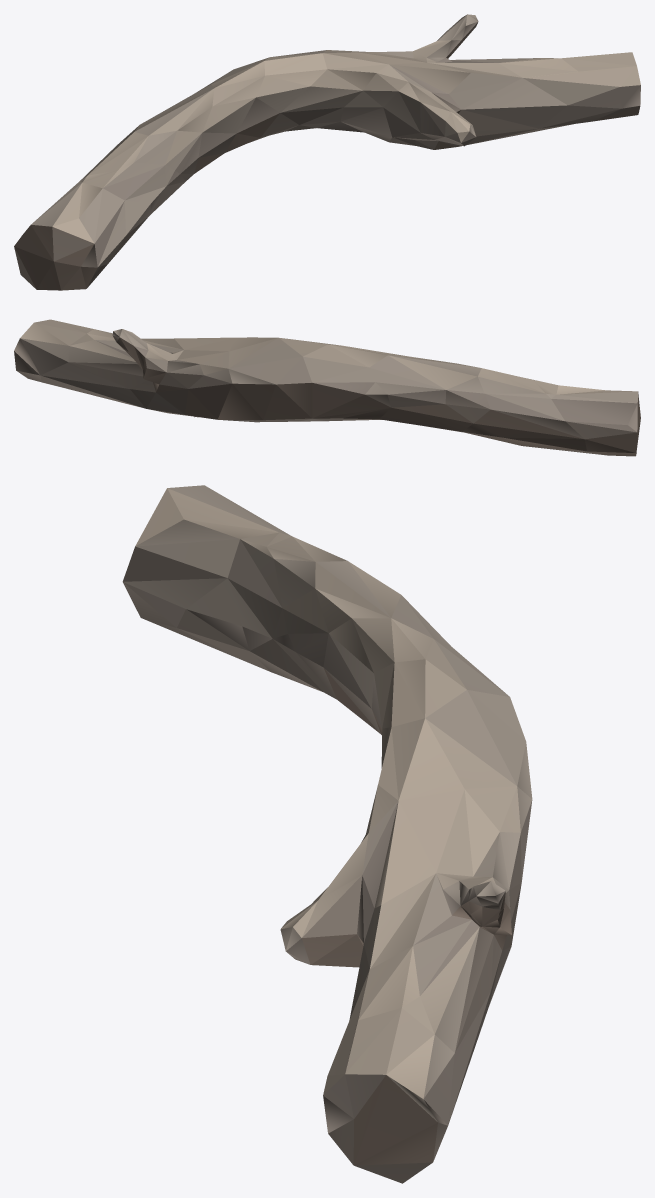
Rendered from driftwood-branch.glb.
3 renders of one model, top to bottom at view 1: azimuth 30°, elevation 25°; view 2: azimuth 150°, elevation 25°; view 3: azimuth 270°, elevation 25°, orthographic. The views are drawn at different scales.
Visible parts, largest first — view 1: driftwood-branch; view 2: driftwood-branch; view 3: driftwood-branch.
Boxes of the visible parts, left/top/right/bottom form: driftwood-branch: left=14, top=14, right=640, bottom=290; driftwood-branch: left=14, top=319, right=640, bottom=456; driftwood-branch: left=122, top=485, right=532, bottom=1183.
Bounding box in the file's own units: 2.91 × 0.5525 × 0.901.
